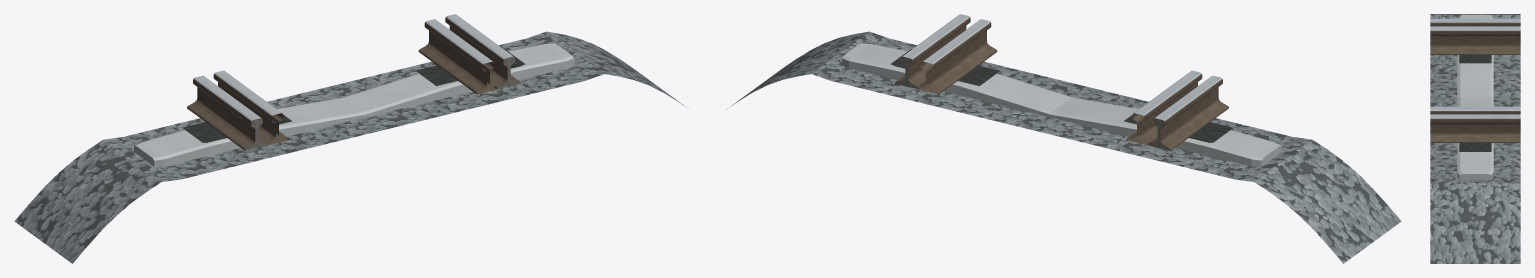
File: outer_guard_low.obj
3 renders of one model, left to right at view 1: azimuth 30°, elevation 25°; view 2: azimuth 150°, elevation 25°; view 3: azimuth 270°, elevation 25°, orthographic. The views are drawn at different scales.
Parts seen in each view (by area): view 1: ballast, sleeper, outer_guard_right, rail_left, outer_guard_left, rail_right, outer_fastener_left, outer_fastener_right; view 2: ballast, sleeper, outer_guard_right, rail_left, outer_guard_left, rail_right, outer_fastener_left, outer_fastener_right; view 3: ballast, sleeper, rail_right, outer_guard_left, rail_left, outer_guard_right, outer_fastener_left, outer_fastener_right.
Part boxes in pixels (bbox=[...]): ballast: bbox=[14, 31, 688, 263]; sleeper: bbox=[134, 43, 573, 166]; outer_guard_right: bbox=[418, 19, 498, 94]; rail_left: bbox=[187, 75, 266, 150]; outer_guard_left: bbox=[213, 70, 289, 144]; rail_right: bbox=[445, 14, 519, 88]; outer_fastener_left: bbox=[182, 115, 291, 142]; outer_fastener_right: bbox=[416, 49, 525, 85]; ballast: bbox=[727, 31, 1401, 263]; sleeper: bbox=[842, 43, 1281, 166]; outer_guard_right: bbox=[917, 19, 997, 94]; rail_left: bbox=[1149, 75, 1228, 150]; outer_guard_left: bbox=[1126, 70, 1202, 144]; rail_right: bbox=[896, 14, 970, 88]; outer_fastener_left: bbox=[1124, 115, 1233, 142]; outer_fastener_right: bbox=[890, 49, 999, 85]; ballast: bbox=[1430, 14, 1520, 263]; sleeper: bbox=[1457, 14, 1493, 179]; rail_right: bbox=[1430, 114, 1520, 142]; outer_guard_left: bbox=[1430, 26, 1520, 54]; rail_left: bbox=[1430, 18, 1520, 26]; outer_guard_right: bbox=[1430, 106, 1520, 114]; outer_fastener_left: bbox=[1459, 55, 1491, 63]; outer_fastener_right: bbox=[1459, 143, 1491, 151].
Size of the model in its own units: 3.7 by 0.5683 by 0.6.
